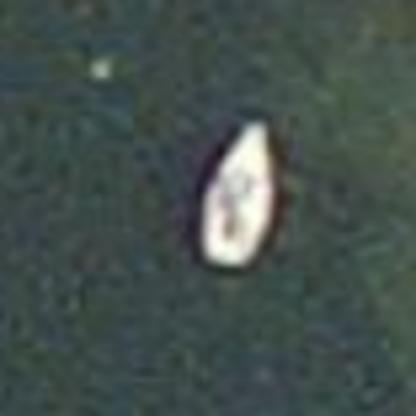ship: (169, 100, 305, 280)
